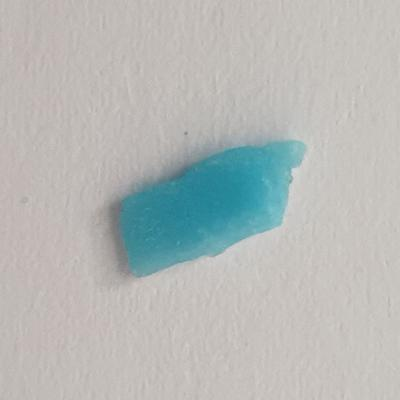plastic: (101, 134, 314, 299)
